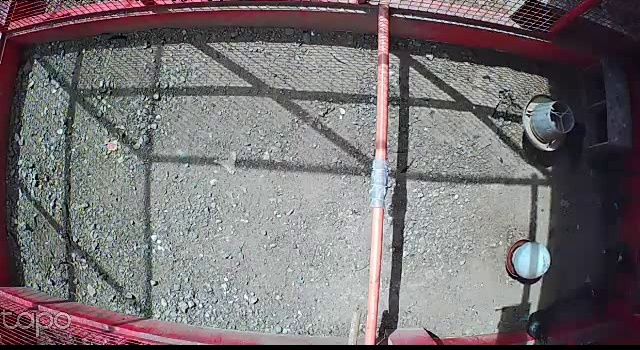Chicken: (519, 299, 559, 350)
Drinker: (503, 238, 554, 281)
Feeder: (520, 93, 578, 153)
